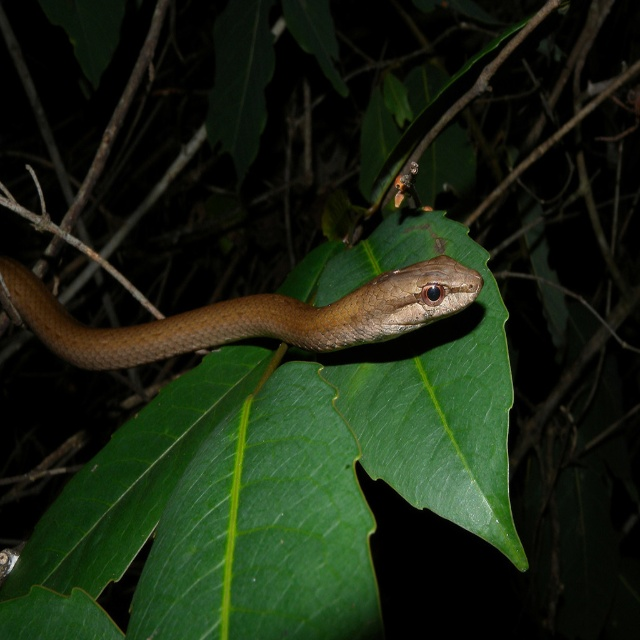Snake: (8, 235, 494, 390)
